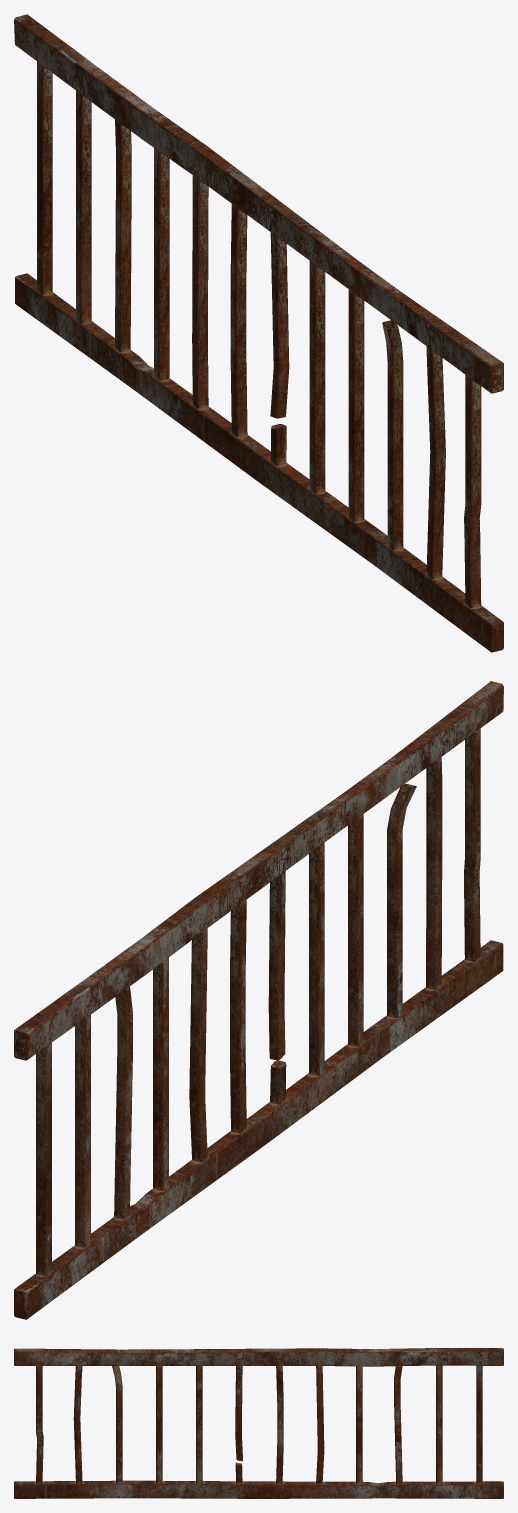
The model's file is SM_railing.fbx.
3 renders of one model, top to bottom at view 1: azimuth 30°, elevation 25°; view 2: azimuth 150°, elevation 25°; view 3: azimuth 270°, elevation 25°, orthographic. The views are drawn at different scales.
Parts seen in each view (by area): view 1: SM_railing_LOD0; view 2: SM_railing_LOD0; view 3: SM_railing_LOD0.
Part boxes in pixels (<box>): SM_railing_LOD0: <box>14,14,503,652</box>; SM_railing_LOD0: <box>14,681,503,1319</box>; SM_railing_LOD0: <box>14,1348,503,1498</box>.
Size of the model in its own units: 8.28 by 300 by 99.94.
